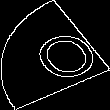O_SE: (12, 21, 98, 89)
